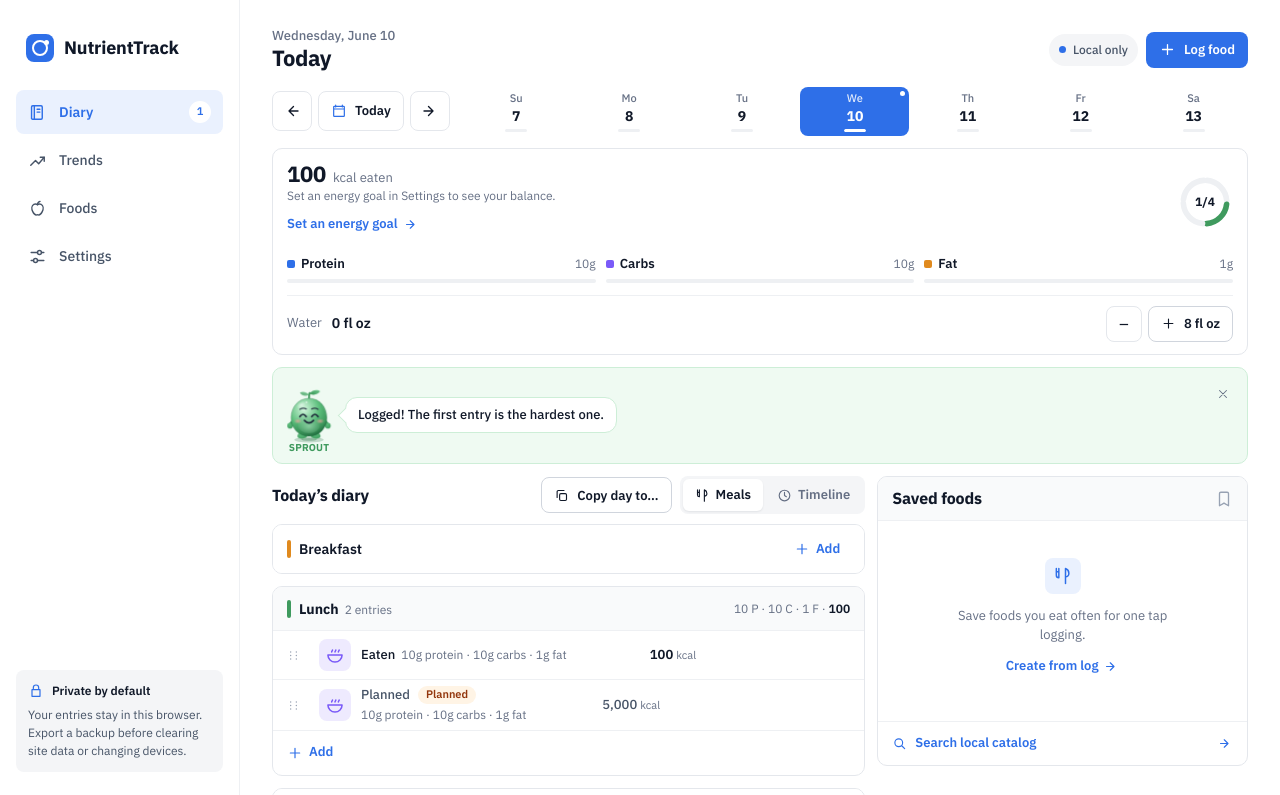
Test: Nutrient contributors panel › excludes_planned_foods
Click the button "Trends".
click(120, 160)  # box [16,138,223,182]
(page scrolled)
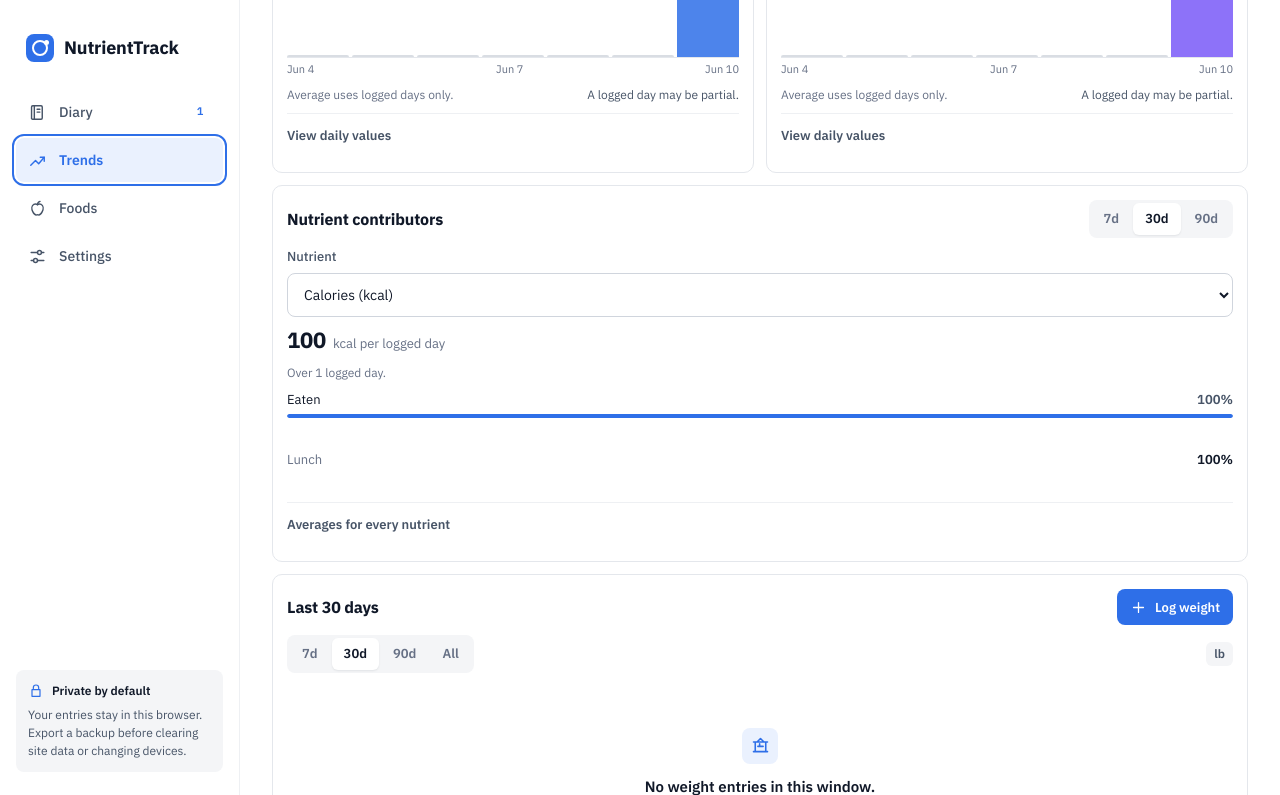
Expected: the text "Eaten" is shown, [287,391,321,410]
Expected: the text "Planned" is gone
